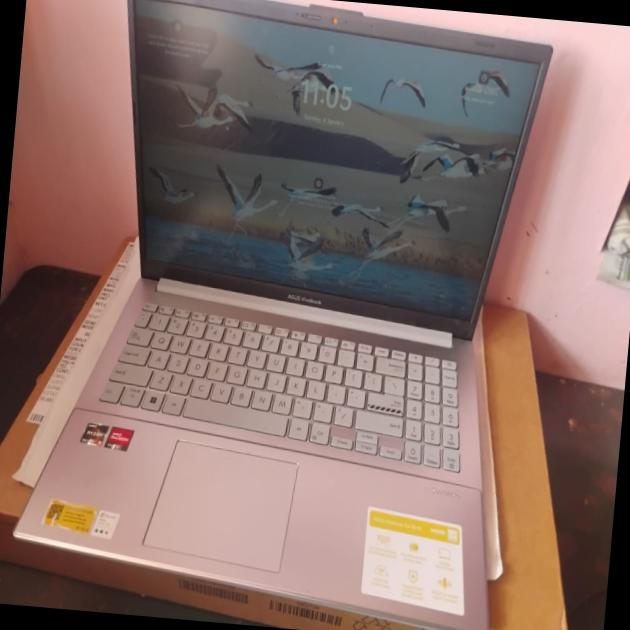laptop: (19, 0, 574, 630)
